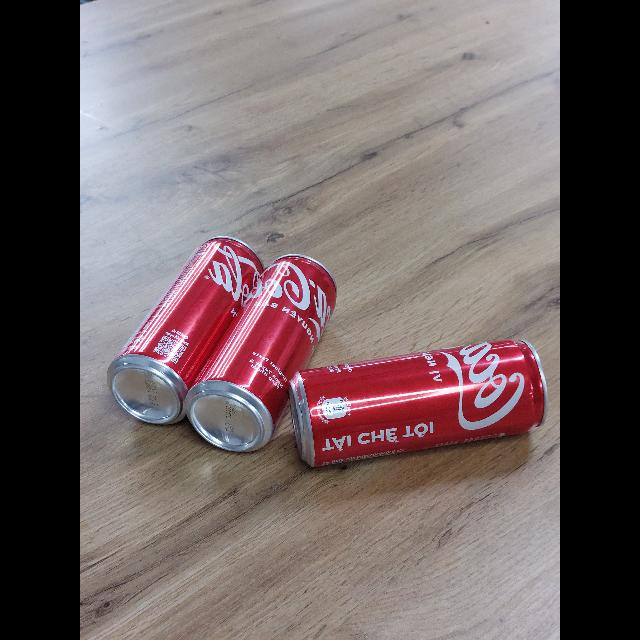coca_cola: (290, 339, 548, 466), (185, 255, 336, 452), (107, 236, 264, 424)
